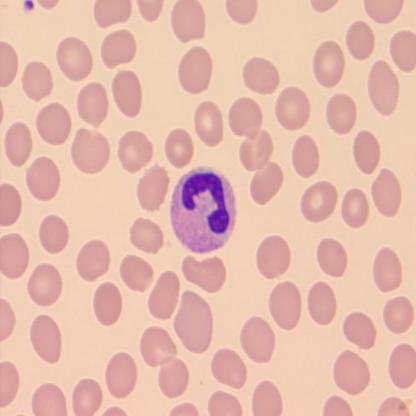Segmented neutrophil: (169, 164, 238, 256)
